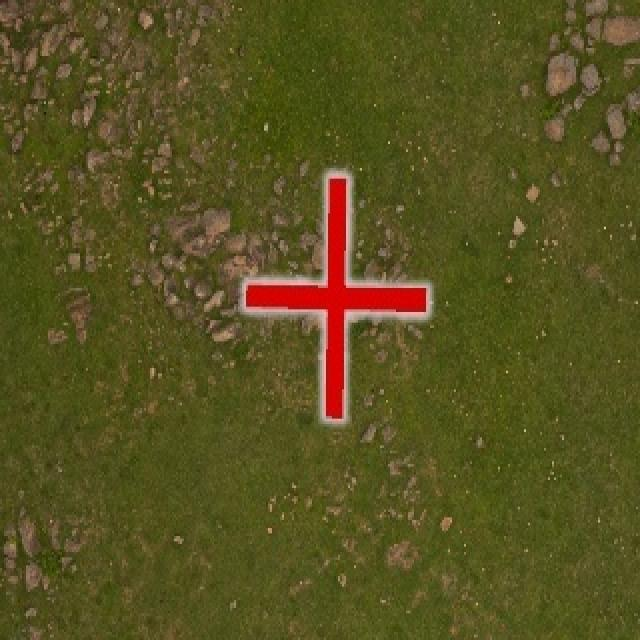x_marker: (245, 175, 427, 417)
